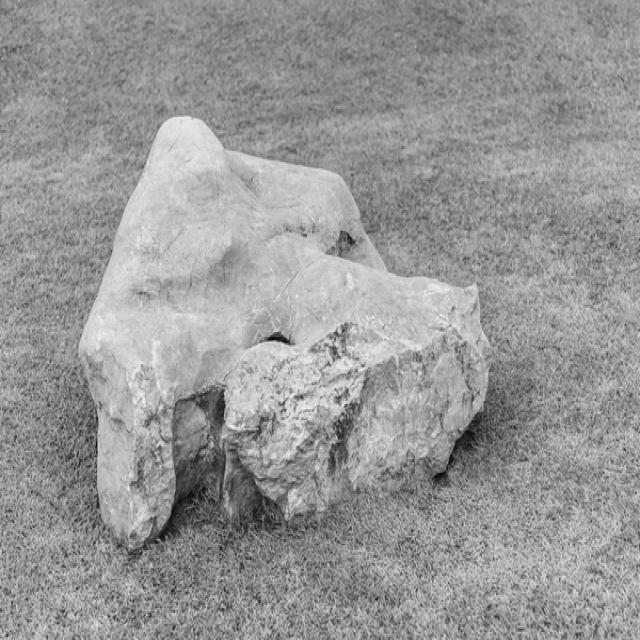Stone: (79, 115, 492, 548)
